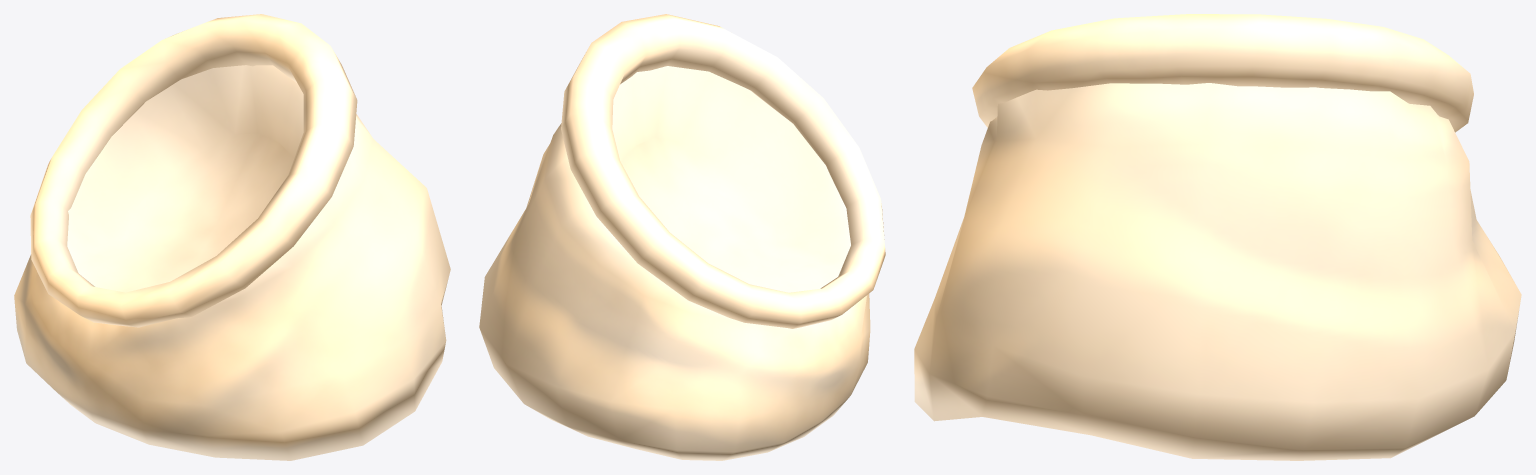
The model's file is SM_Stylized_Bag_var2.fbx.
The picture shows the model from 3 angles, left to right: view 1: azimuth 30°, elevation 25°; view 2: azimuth 150°, elevation 25°; view 3: azimuth 270°, elevation 25°; orthographic projection. The views are drawn at different scales.
Visible parts, largest first — view 1: SM_Stylized_Bag_var2_LOD0; view 2: SM_Stylized_Bag_var2_LOD0; view 3: SM_Stylized_Bag_var2_LOD0.
Part boxes in pixels (box(x1,y1,x2,y2)): SM_Stylized_Bag_var2_LOD0: box(14, 14, 450, 460); SM_Stylized_Bag_var2_LOD0: box(479, 14, 885, 460); SM_Stylized_Bag_var2_LOD0: box(914, 14, 1521, 460).
Size of the model in its own units: 37.99 by 43.37 by 35.04.
